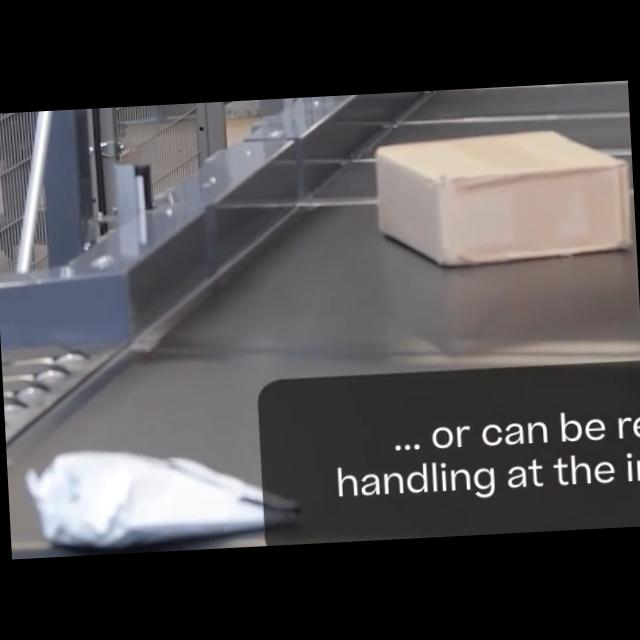box: (364, 120, 636, 272)
mailer: (21, 434, 297, 559)
